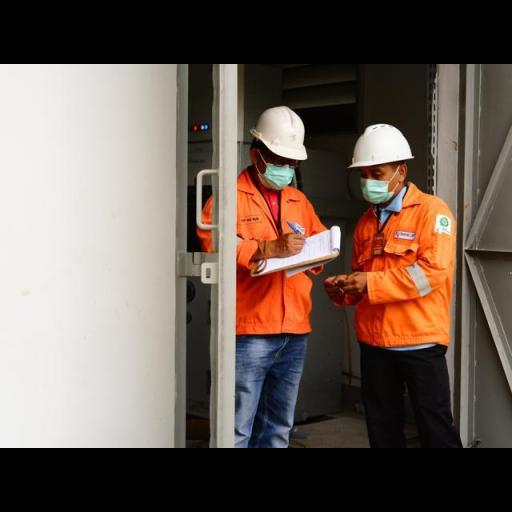Person: (306, 102, 496, 448), (186, 82, 347, 448)
gloves: (316, 270, 368, 310), (296, 254, 328, 278)
helmet: (245, 100, 316, 164), (346, 119, 418, 174)
vest: (185, 162, 341, 341), (335, 177, 476, 356)
